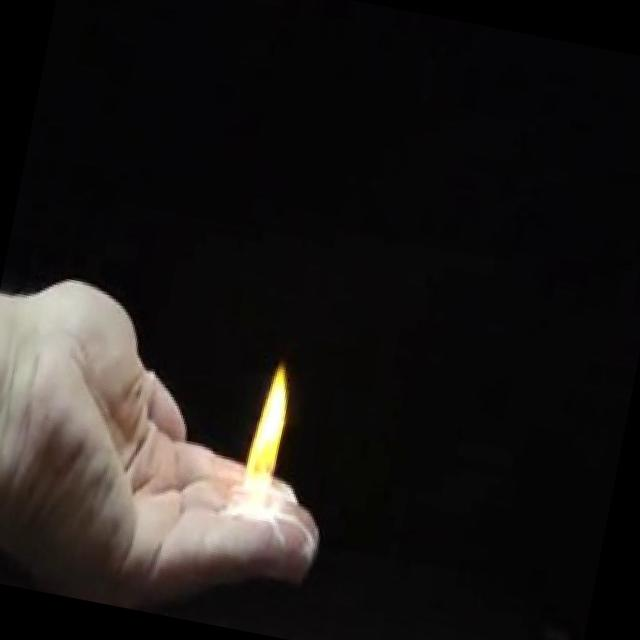Fire: (226, 354, 309, 526)
